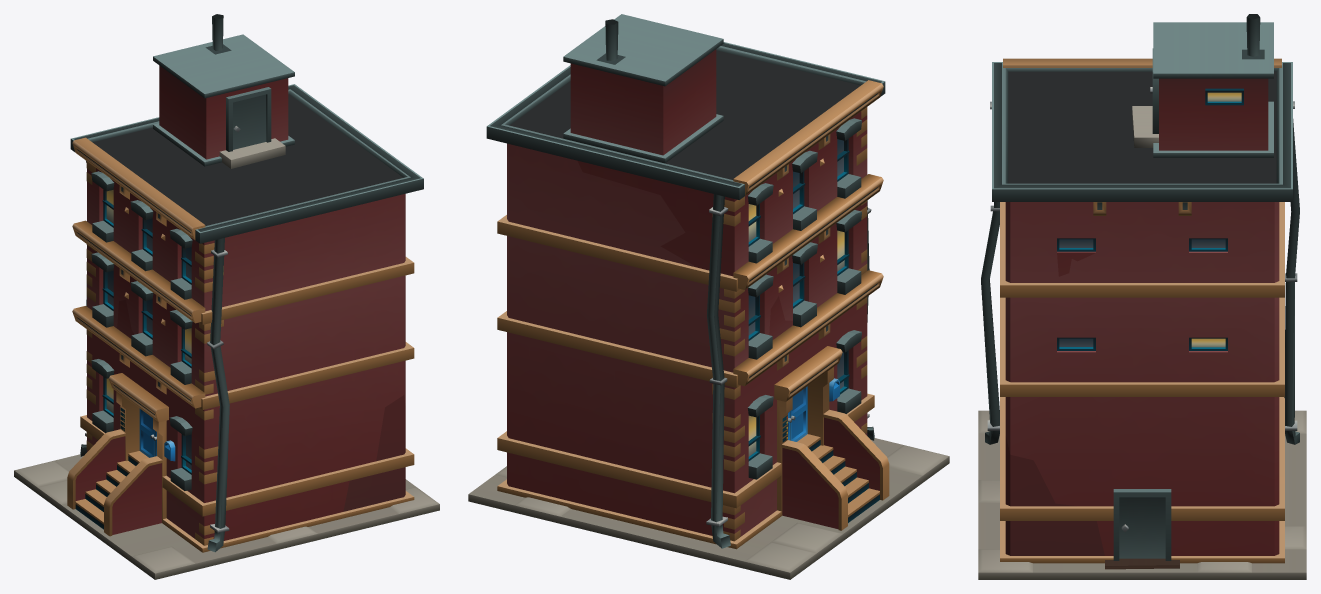
The model's file is Building_5A.fbx.
3 renders of one model, left to right at view 1: azimuth 30°, elevation 25°; view 2: azimuth 150°, elevation 25°; view 3: azimuth 270°, elevation 25°, orthographic. The views are drawn at different scales.
Parts seen in each view (by area): view 1: Building_5A, Window_Lights_5A; view 2: Building_5A, Window_Lights_5A; view 3: Building_5A, Window_Lights_5A.
Boxes of the visible parts, left/top/right/bottom form: Building_5A: left=14, top=14, right=439, bottom=579; Window_Lights_5A: left=106, top=190, right=191, bottom=413; Building_5A: left=468, top=14, right=949, bottom=579; Window_Lights_5A: left=748, top=204, right=844, bottom=456; Building_5A: left=978, top=14, right=1306, bottom=579; Window_Lights_5A: left=1191, top=92, right=1241, bottom=347.
Size of the model in its own units: 1400 by 2033 by 1200.
